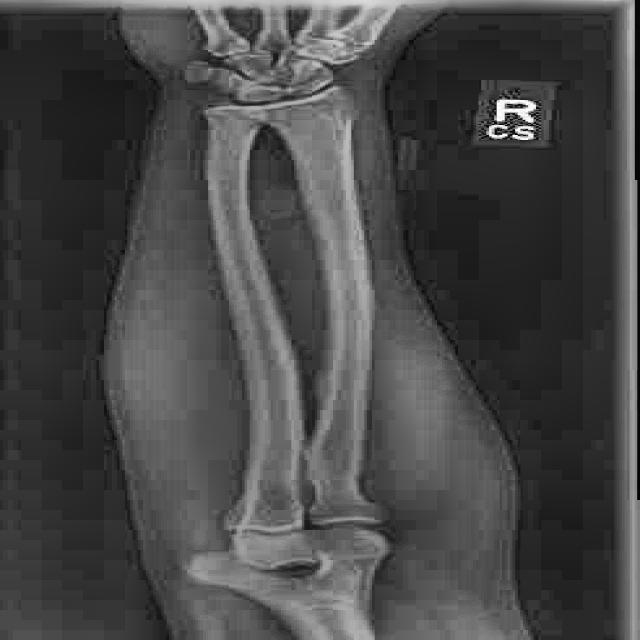forearm fracture: (269, 425, 346, 484)
